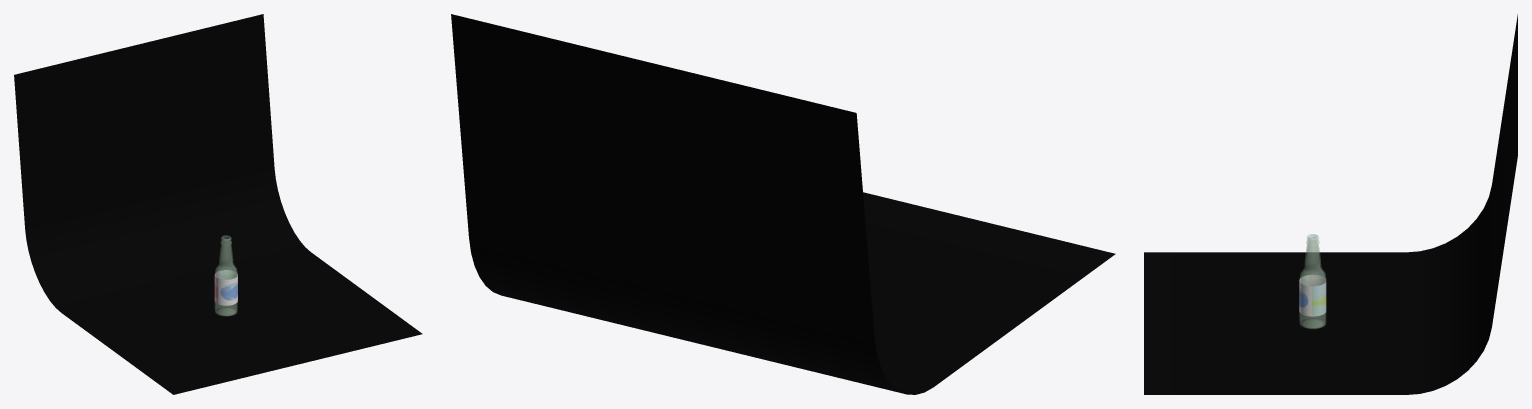
The model's file is asset.glb.
3 renders of one model, left to right at view 1: azimuth 30°, elevation 25°; view 2: azimuth 150°, elevation 25°; view 3: azimuth 270°, elevation 25°, orthographic. The views are drawn at different scales.
Visible parts, largest first — view 1: Plane, Circle.001, Group 1; view 2: Plane; view 3: Plane, Circle.001, Group 1.
Part boxes in pixels (x1,y1,x2,y2): Plane: [14, 14, 422, 394]; Circle.001: [215, 235, 237, 316]; Group 1: [214, 270, 237, 305]; Plane: [451, 14, 1115, 394]; Plane: [1144, 14, 1517, 394]; Circle.001: [1299, 234, 1325, 328]; Group 1: [1299, 275, 1326, 316].
Bounding box in the file's own units: 0.8106 × 0.6331 × 0.8974.
3 materials, 1 textured.
